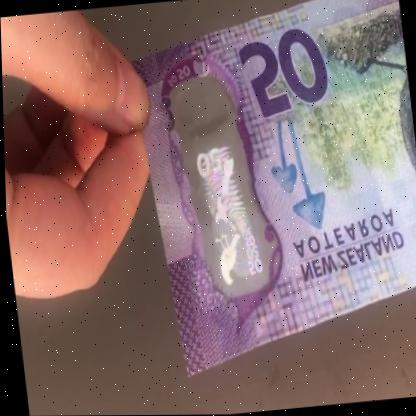50B: (171, 97, 264, 295)
